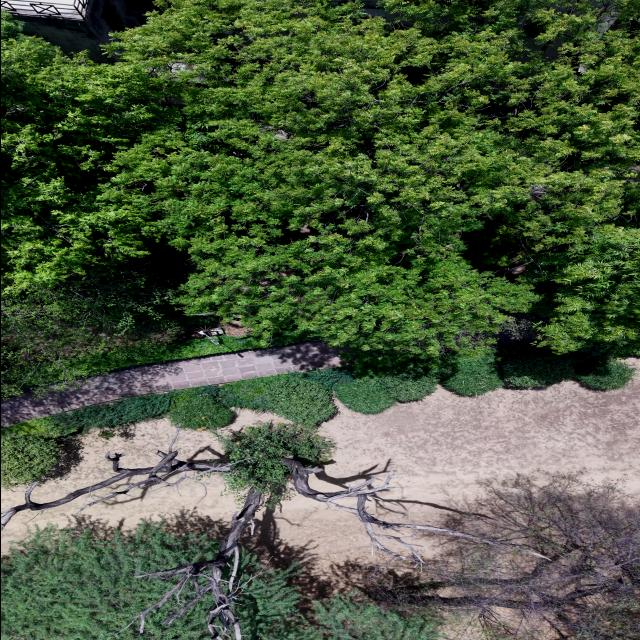DRY_AREA: (311, 376, 639, 522), (1, 340, 340, 425)
VEGETATION_TREE: (1, 0, 639, 426), (3, 0, 639, 424), (3, 0, 639, 395), (119, 0, 636, 354), (1, 425, 639, 639), (1, 425, 638, 639), (16, 346, 633, 438), (371, 474, 639, 639), (1, 255, 257, 398), (1, 373, 336, 481), (219, 347, 633, 424), (281, 454, 550, 565), (1, 373, 336, 460), (281, 455, 523, 563), (1, 257, 184, 397), (1, 523, 219, 639), (286, 346, 633, 412), (305, 345, 633, 412), (15, 373, 336, 437), (539, 223, 639, 352), (220, 422, 333, 507), (15, 392, 174, 438), (212, 373, 336, 426), (493, 345, 634, 389), (313, 593, 438, 639), (333, 375, 437, 412), (1, 427, 66, 486), (167, 386, 235, 430), (501, 347, 574, 387), (442, 353, 503, 395), (576, 359, 634, 389), (300, 366, 355, 389)
